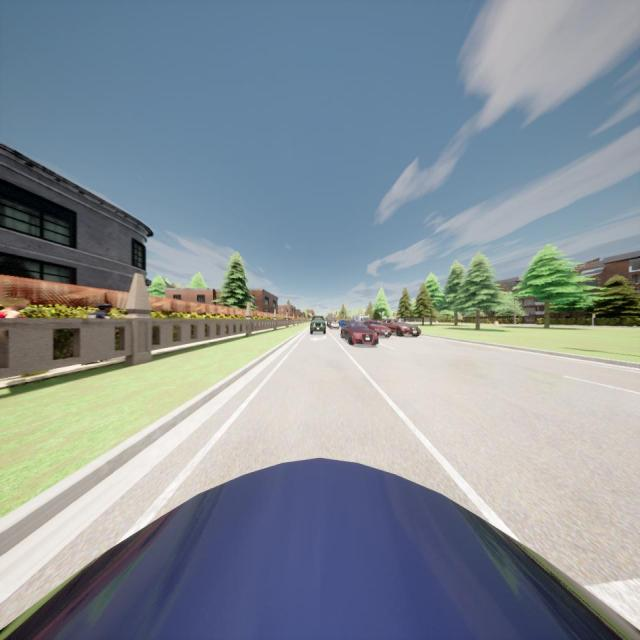Pedestrian: (0, 291, 32, 322), (86, 301, 114, 319)
Vehicle: (1, 457, 639, 640), (340, 322, 379, 345), (382, 318, 422, 337), (364, 320, 392, 338), (310, 315, 326, 335), (352, 314, 370, 322), (327, 320, 339, 330), (338, 319, 347, 326)
